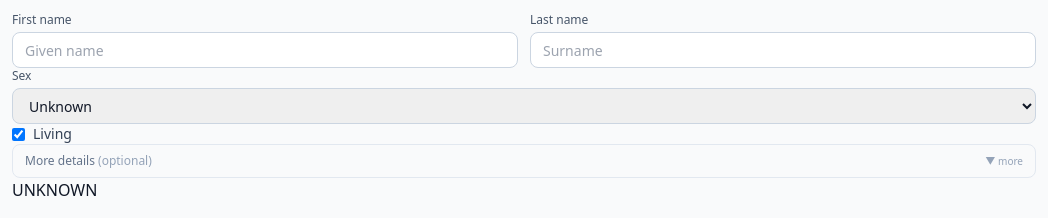
Test case: PersonFormFields sex auto-guess on First Name blur › fills in a confident guess when Sex is still UNKNOWN
In the field with placeholder "Given name": (265, 50) left=12, top=32, right=518, bottom=68, type "Emma"
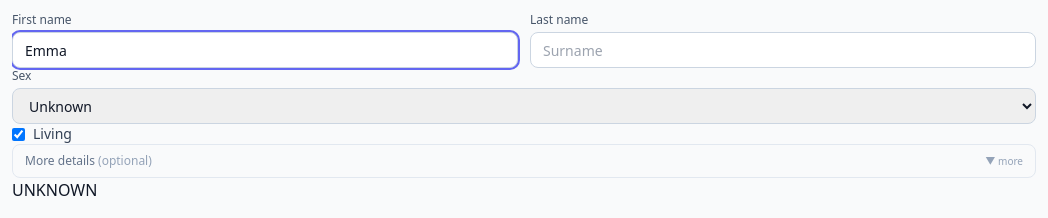
Press Tab
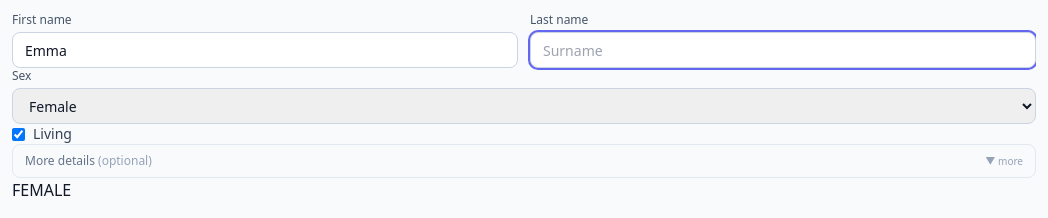
Result: the text with test id "sex-value" reads "FEMALE" at left=12, top=179, right=71, bottom=201
